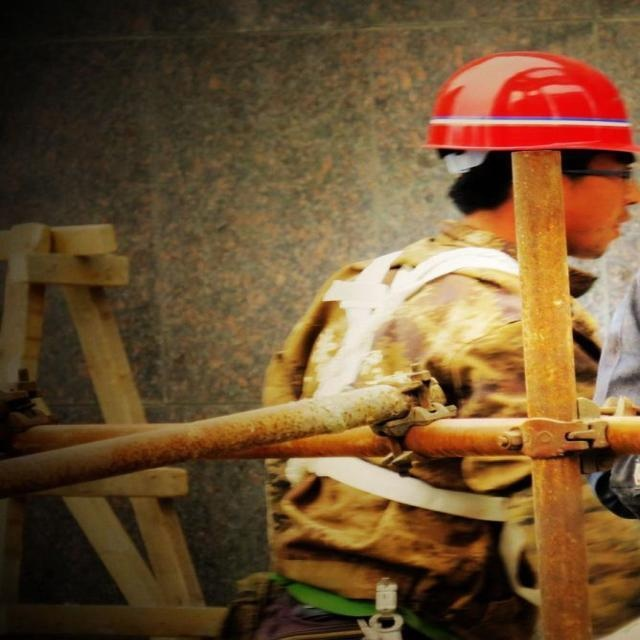Arnes_seguridad: (279, 236, 538, 522)
